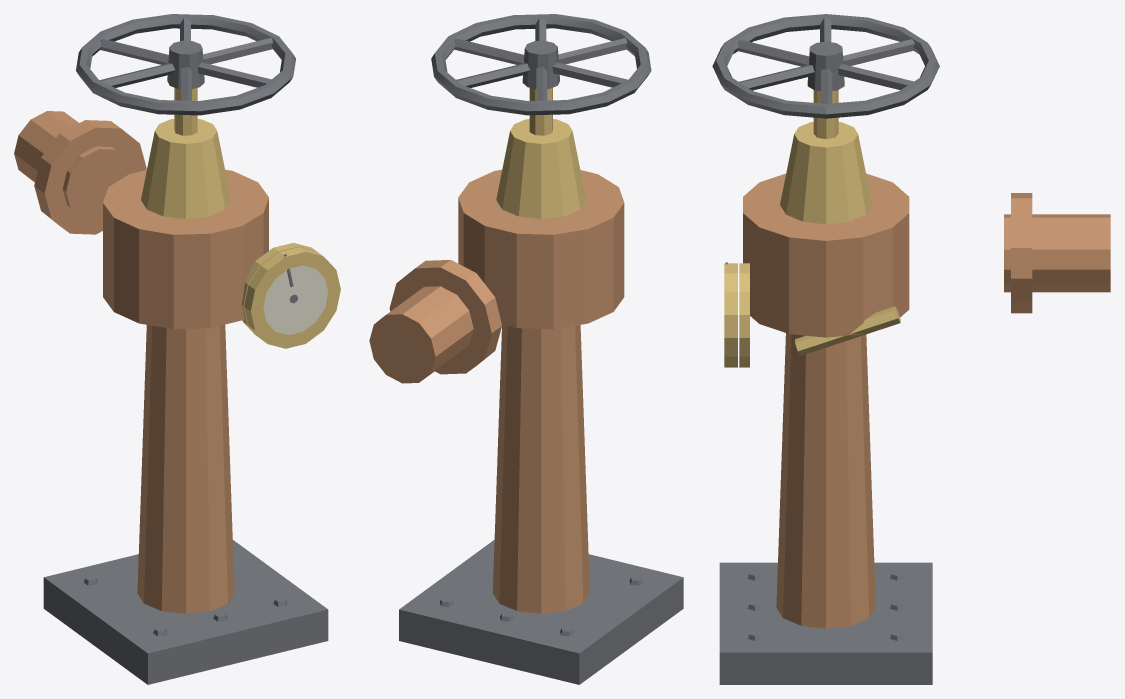
The model's file is steampunk-airship-dock-and-workshop-valve-standpipe-bcf6b39c__36070.glb.
The picture shows the model from 3 angles, left to right: view 1: azimuth 30°, elevation 25°; view 2: azimuth 150°, elevation 25°; view 3: azimuth 270°, elevation 25°; orthographic projection. The views are drawn at different scales.
Parts seen in each view (by area): view 1: valve-standpipe, valve-main; view 2: valve-standpipe, valve-main; view 3: valve-standpipe, valve-main.
Boxes of the visible parts, <box> form: valve-standpipe: <box>14,87,340,684</box>; valve-main: <box>76,14,295,115</box>; valve-standpipe: <box>369,87,683,684</box>; valve-main: <box>431,14,651,115</box>; valve-standpipe: <box>719,90,1110,684</box>; valve-main: <box>712,14,939,118</box>.
Bounding box in the file's own units: 0.67 × 1.83 × 1.12.
